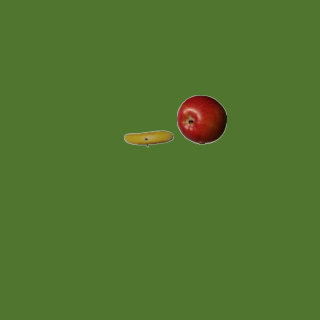Apple Braeburn: (176, 94, 226, 144)
Banana: (123, 113, 173, 163)
